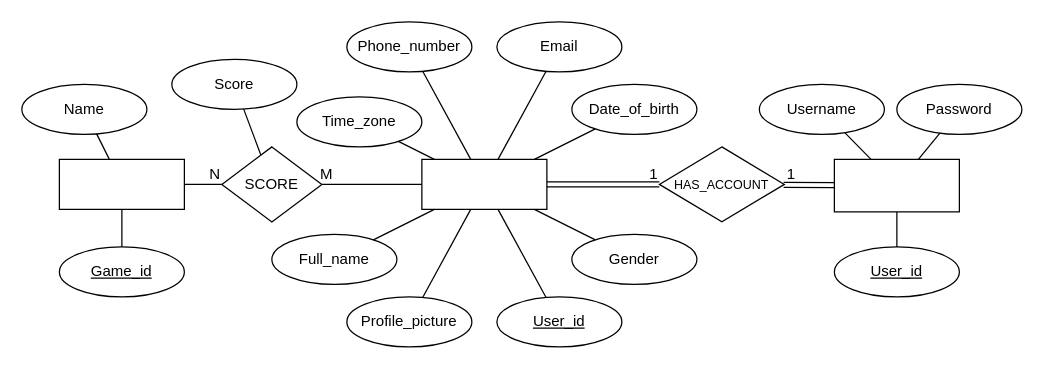
This 1044x369 diagram has some shape labels left out. Each missing label, with the box of its shape:
ACCOUNT: (833, 158, 959, 212)
GAME: (58, 158, 184, 209)
USER: (421, 158, 547, 209)
